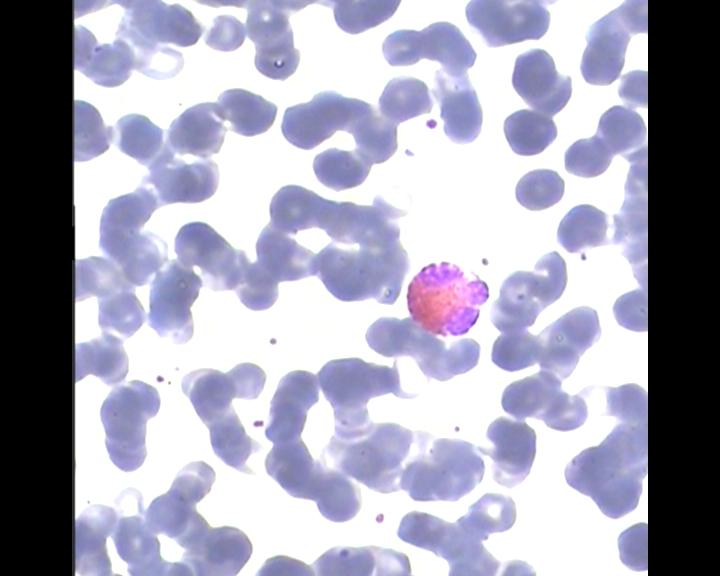eosi: (398, 252, 493, 340)
